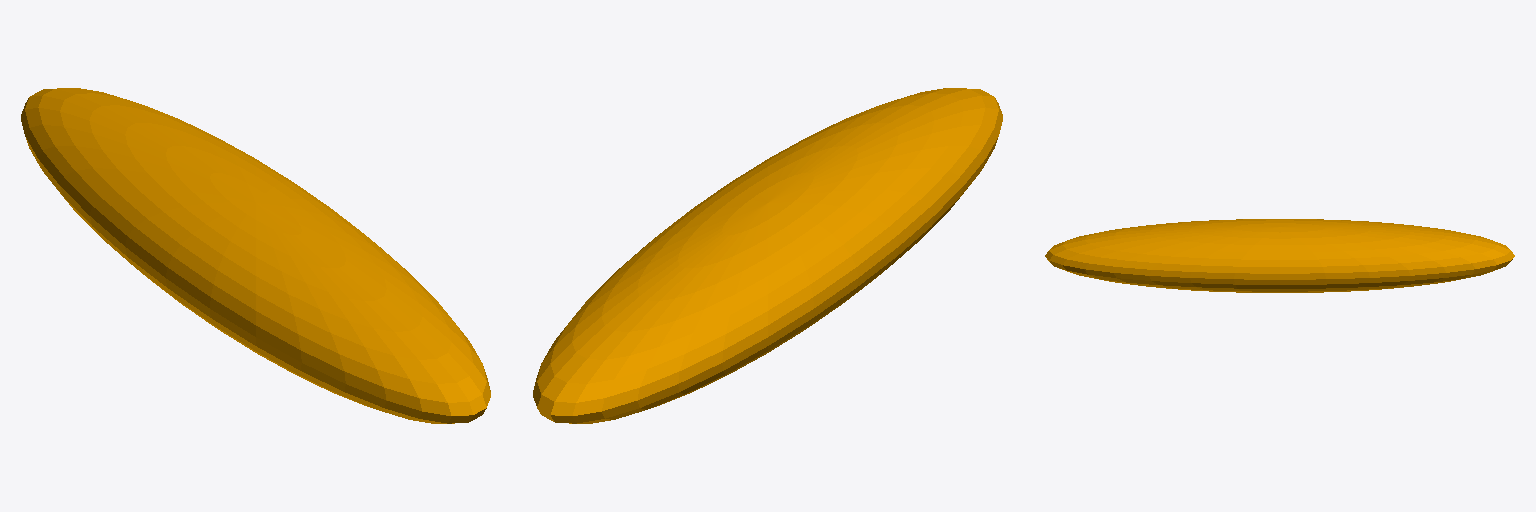
robot.urdf — mesh_object:
<?xml version="1.0" ?>
<robot name="mesh_object">
  <link name="base">
    <visual>
      <geometry>
        <mesh filename="crisp_(potato_chip)_2.obj" scale="1 1 1"/>
      </geometry>
    </visual>
    <collision>
      <geometry>
        <mesh filename="crisp_(potato_chip)_2.obj" scale="1 1 1"/>
      </geometry>
    </collision>
    <inertial>
      <origin xyz="0.000000 -0.000000 0.024874" rpy="0 0 0"/>
      <mass value="0.5"/>
      <inertia ixx="0.01" iyy="0.01" izz="0.01" ixy="0" ixz="0" iyz="0"/>
    </inertial>
  </link>
</robot>

--- What the picture shows (computed from the rendered views, not written in the file) ---
The picture shows the robot from 3 angles, left to right: view 1: azimuth 30°, elevation 25°; view 2: azimuth 150°, elevation 25°; view 3: azimuth 270°, elevation 25°; orthographic projection.
Robot: mesh_object — 1 links, 0 joints (none); root link base; default pose: every joint at zero.
Links seen in each view (by area): view 1: base; view 2: base; view 3: base.
Boxes of the visible links, x1,y1,x2,y2 form: base: (21,88,490,423); base: (533,88,1002,423); base: (1045,219,1514,292).
Size in the robot's own frame: 0.0887 by 0.37 by 0.0497 metres.
Meshes: 1 distinct files referenced, 1 mesh visuals loaded (1 OBJ).
